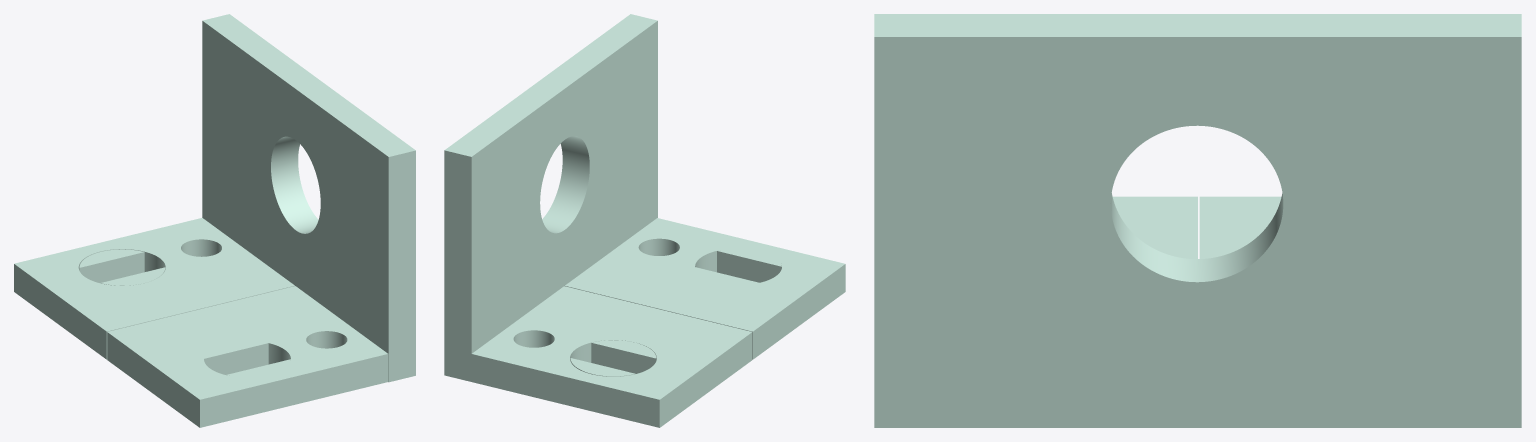
3 views of the same model, side by side, from view 1: azimuth 30°, elevation 25°; view 2: azimuth 150°, elevation 25°; view 3: azimuth 270°, elevation 25° (orthographic). The views are drawn at different scales.
Parts seen in each view (by area): view 1: Renderer Node; view 2: Renderer Node; view 3: Renderer Node.
Part boxes in pixels (bbox=[...]): Renderer Node: bbox=[14, 14, 415, 427]; Renderer Node: bbox=[444, 14, 845, 427]; Renderer Node: bbox=[874, 14, 1521, 427].
Bounding box in the file's own units: 0.751 × 0.75 × 1.13.
